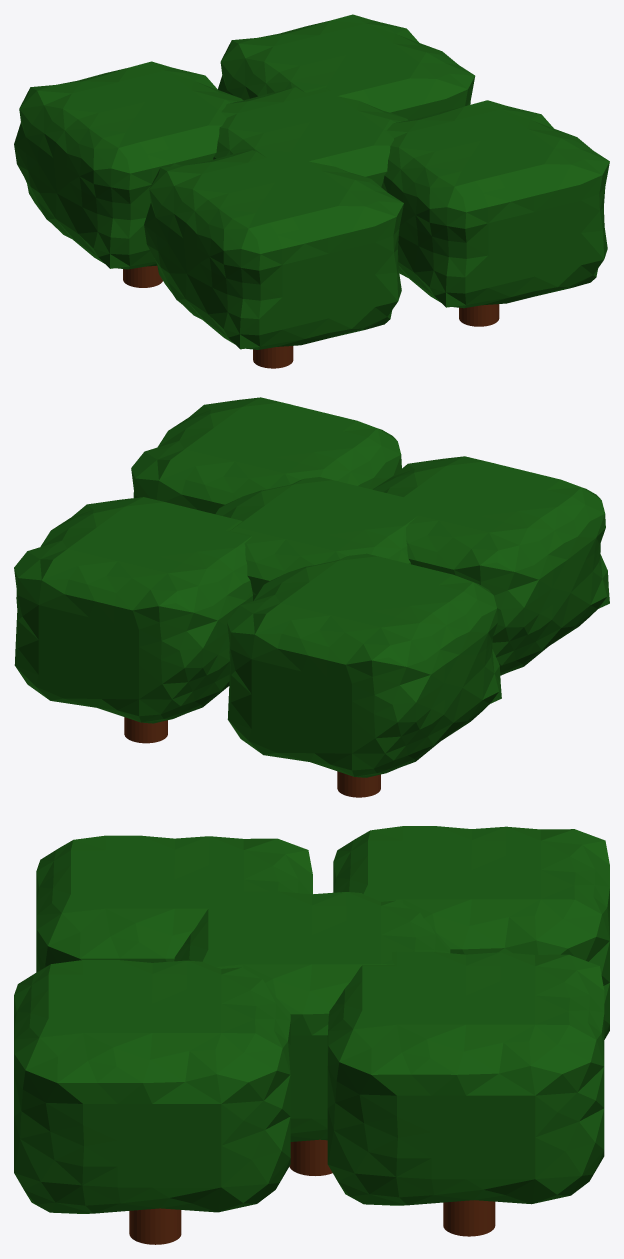
File: Bushes Small.fbx
3 renders of one model, top to bottom at view 1: azimuth 30°, elevation 25°; view 2: azimuth 150°, elevation 25°; view 3: azimuth 270°, elevation 25°, orthographic. The views are drawn at different scales.
Visible parts, largest first — view 1: Cylinder.041; view 2: Cylinder.041; view 3: Cylinder.041.
Boxes of the visible parts, x1,y1,x2,y2 form: Cylinder.041: [14, 14, 609, 368]; Cylinder.041: [14, 397, 609, 797]; Cylinder.041: [14, 826, 609, 1244].
Size of the model in its own units: 860 by 370 by 864.
